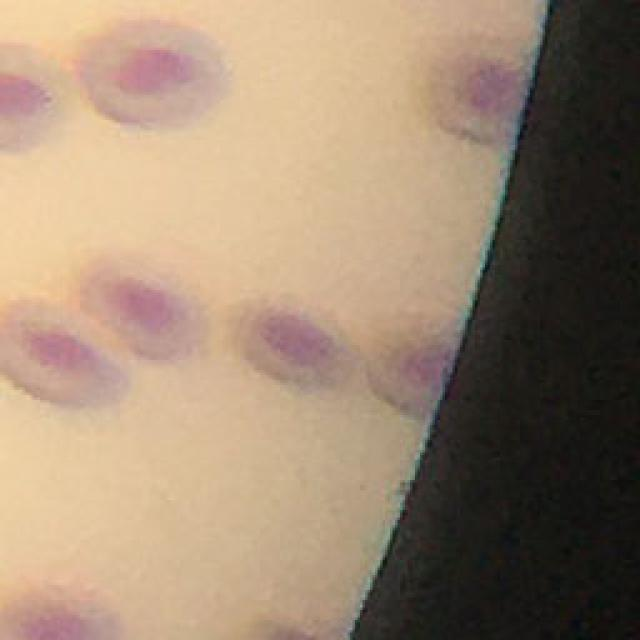RBC: (0, 298, 140, 413), (80, 20, 228, 126), (79, 254, 214, 369), (226, 293, 368, 397), (422, 35, 532, 152), (371, 315, 464, 419), (0, 41, 78, 155), (0, 578, 126, 640)
